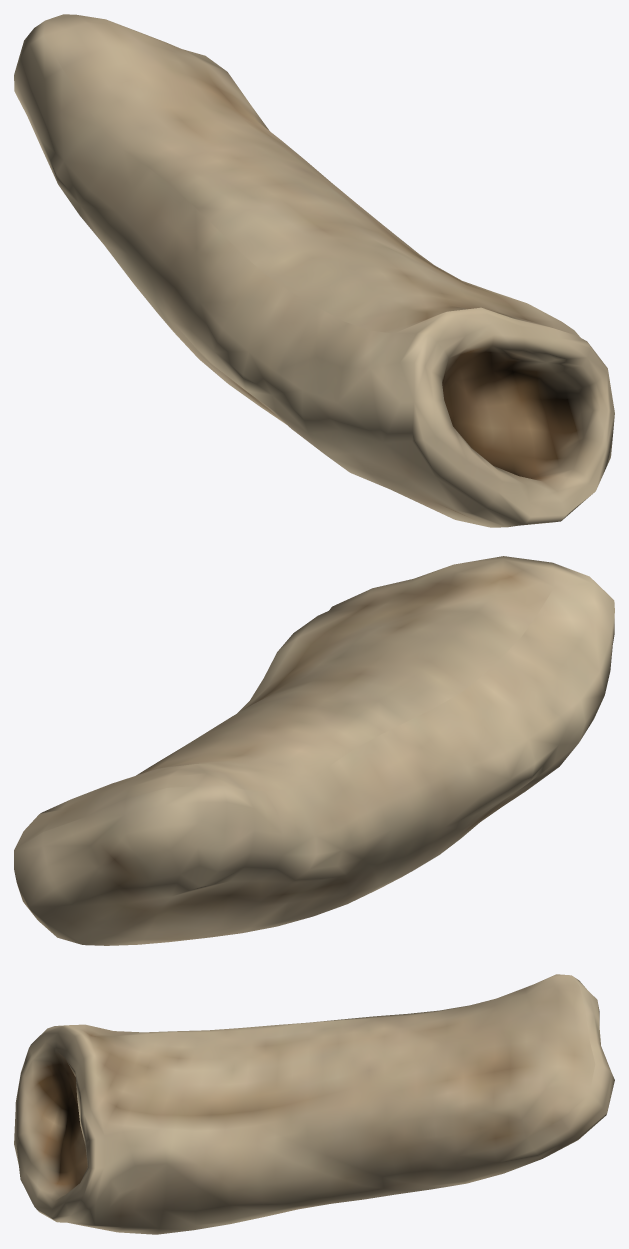
File: Lower_Incisor1.glb
3 views of the same model, one above another, from view 1: azimuth 30°, elevation 25°; view 2: azimuth 150°, elevation 25°; view 3: azimuth 270°, elevation 25° (orthographic). The views are drawn at different scales.
Visible parts, largest first — view 1: Lower_Incisor1.glb; view 2: Lower_Incisor1.glb; view 3: Lower_Incisor1.glb.
Part boxes in pixels (box(x1,y1,x2,y2)): Lower_Incisor1.glb: box(14, 14, 614, 527); Lower_Incisor1.glb: box(14, 556, 614, 945); Lower_Incisor1.glb: box(14, 974, 614, 1234).
Size of the model in its own units: 0.0135 by 0.0127 by 0.0334.
Materials: 1 (1 with a texture image).
